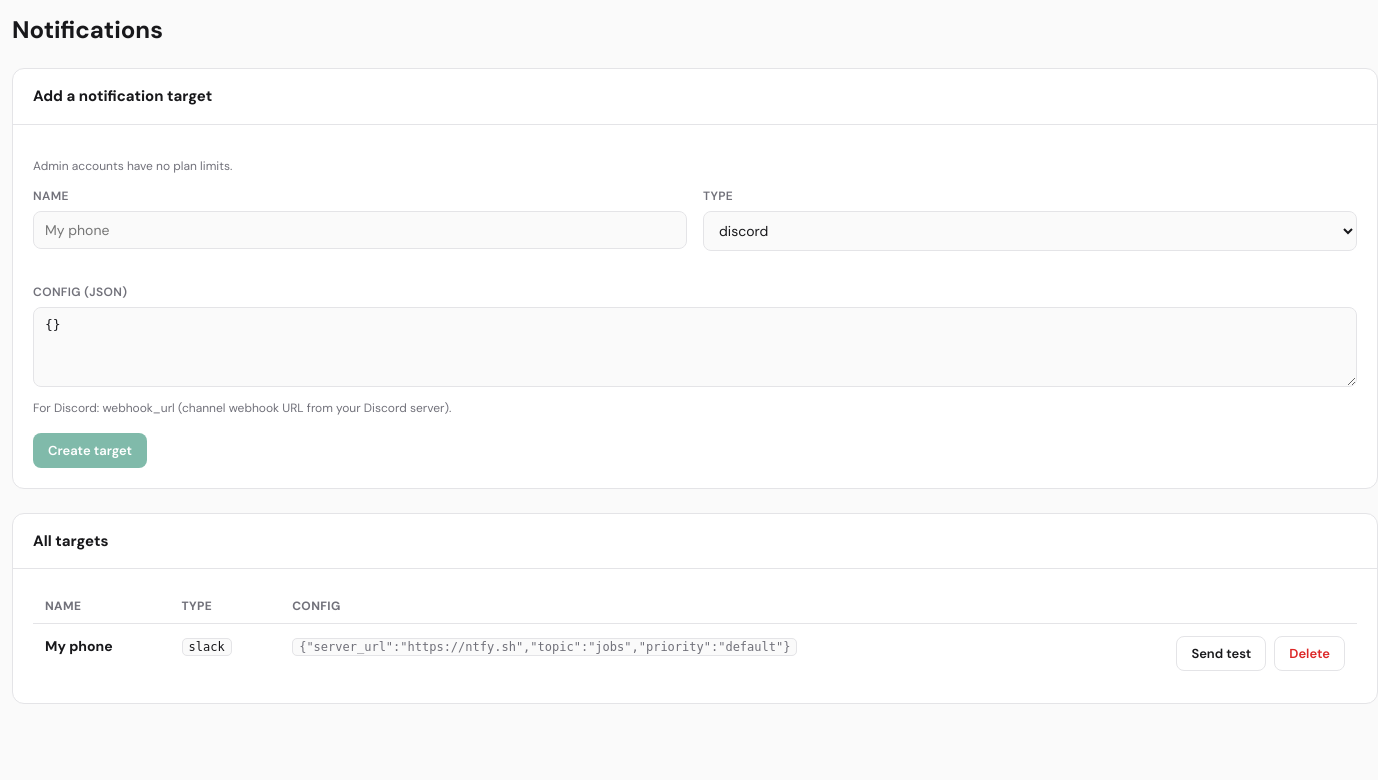
Test: TargetsPage branch coverage › shows the slack-specific success notice on a sent test
expect the text "My phone" is shown: met, box [45,637,113,655]
Click the button "Send test". click: (1221, 654)
box: [1176,636,1266,671]
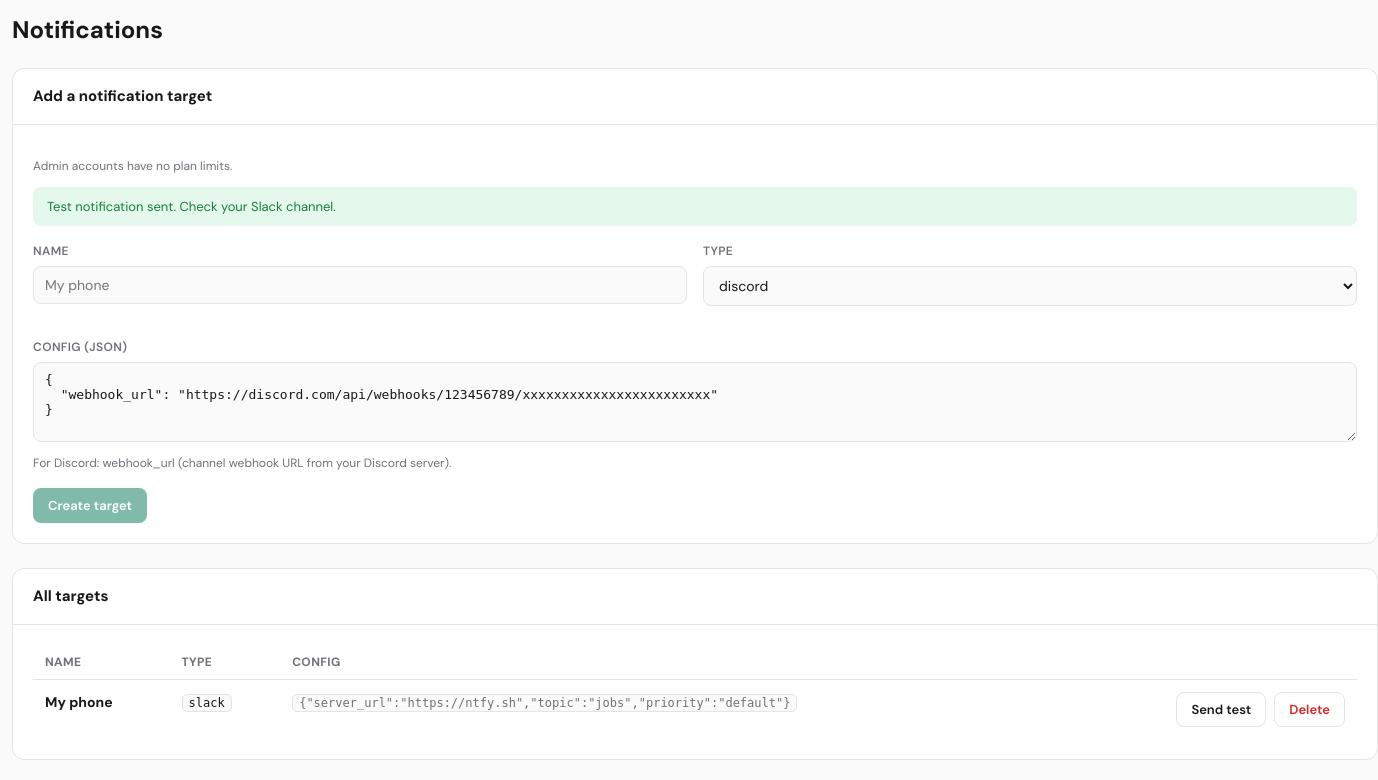
expect the text "Test notification sent. Check your Slack channel." is shown: met, box [33,186,1357,226]
